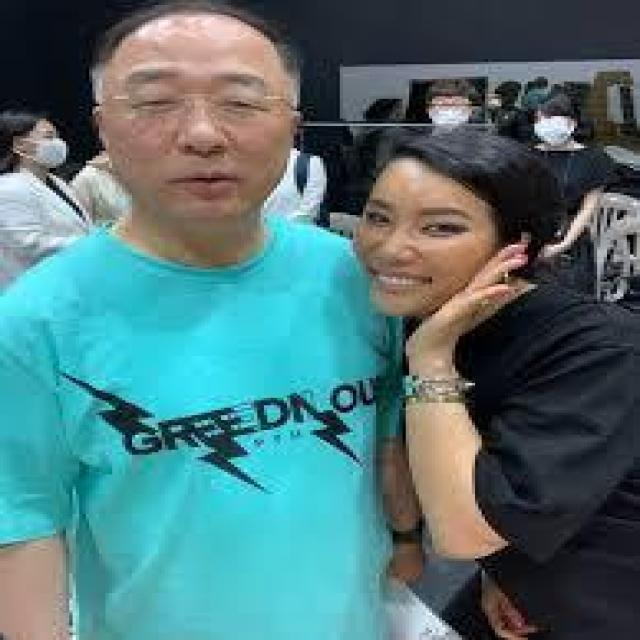Tshirt: (5, 215, 437, 640), (399, 279, 640, 640)
